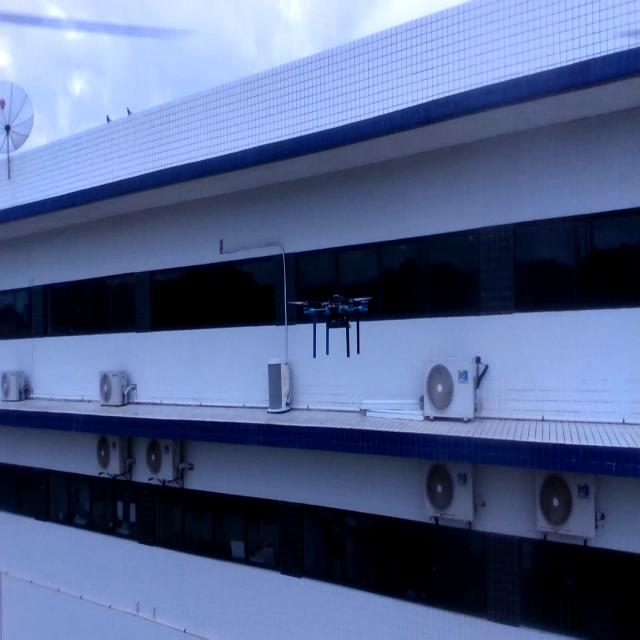-uav-: (284, 280, 384, 367)
